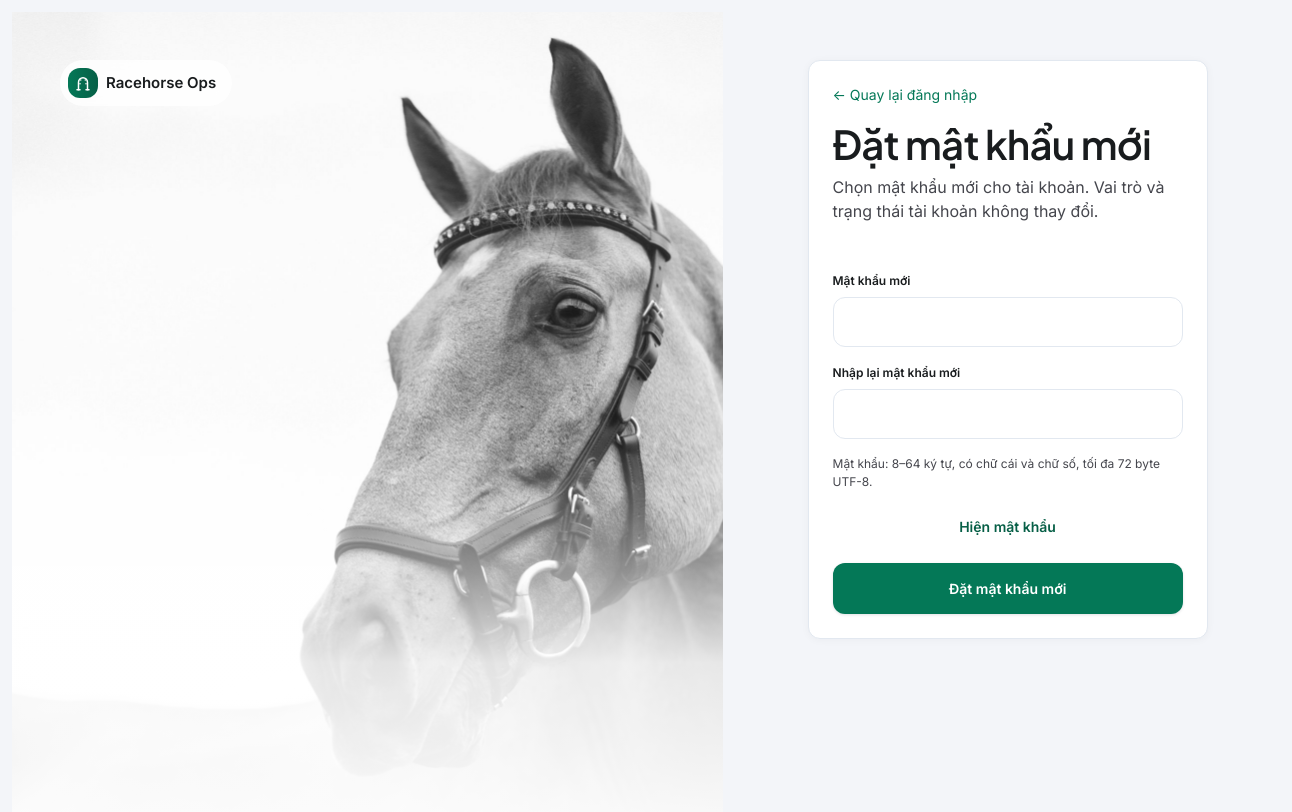
Test case: removes the token from the address bar, validates locally and posts the reset once
The width and height of the screenshot is (1292, 812).
Type "short" into the password field labelled "Mật khẩu mới". click: (1008,322)
box: [832,297,1182,347]
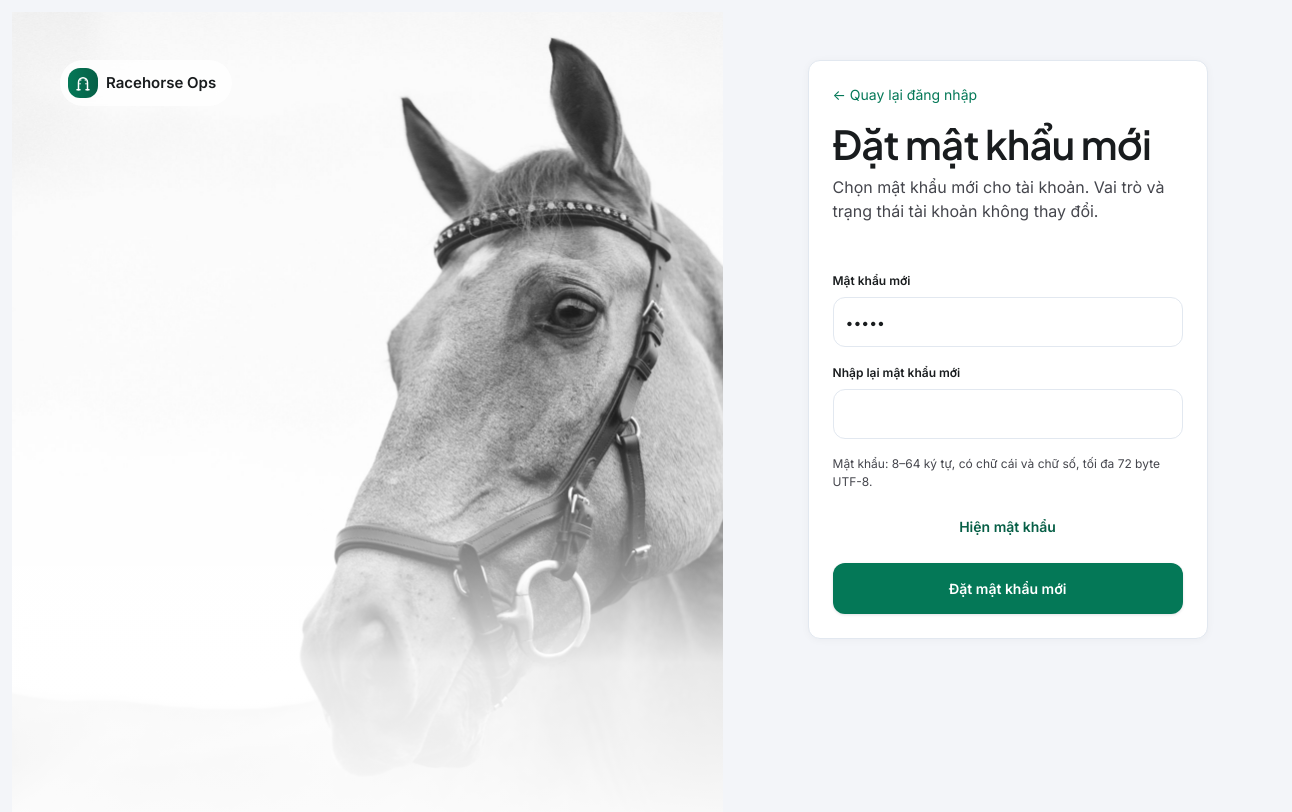
Click the button "Đặt mật khẩu mới". click: (1008,588)
box: [832,563,1182,614]
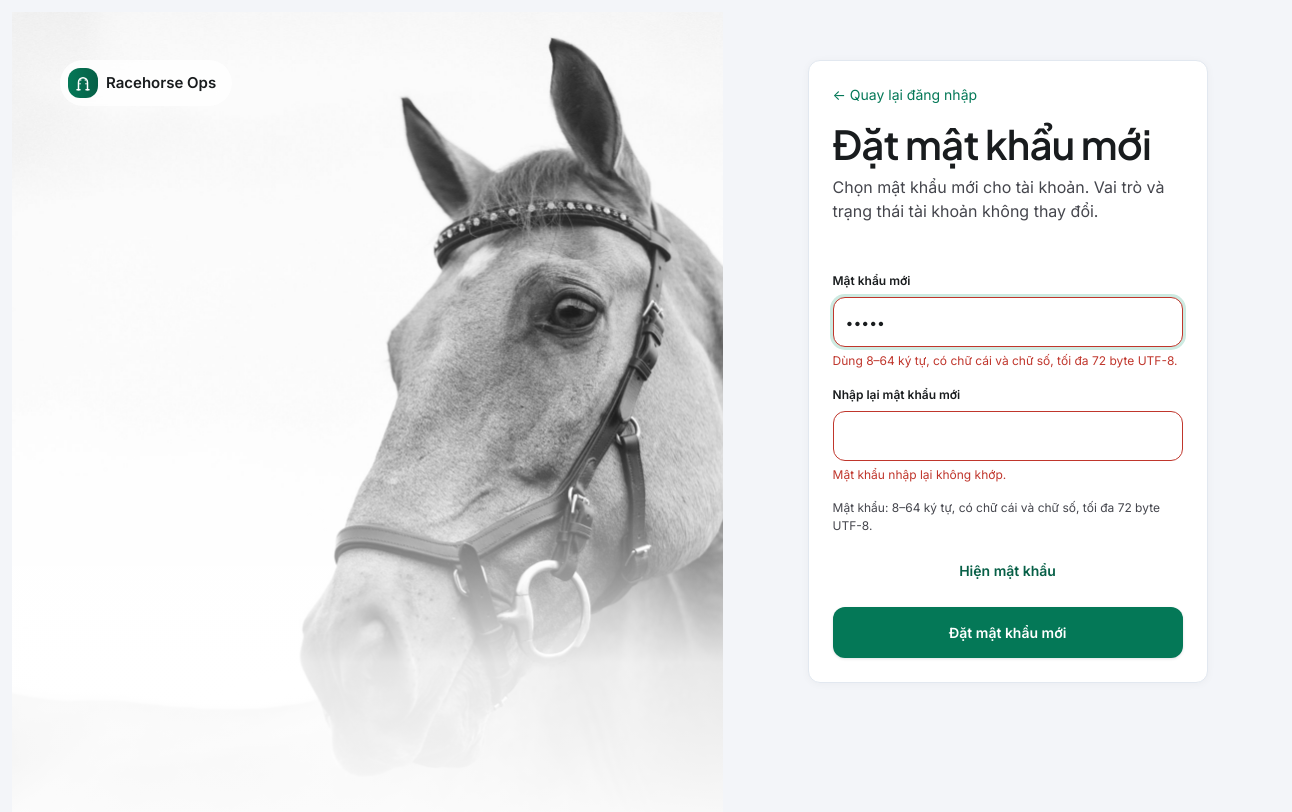
Result: the text "Dùng 8–64 ký tự, có chữ cái và chữ số, tối đa 72 byte UTF-8." is shown at [832,353,1182,369]
Type "Stable2026" into the password field labelled "Mật khẩu mới". click: (1008,322)
box: [832,297,1182,347]
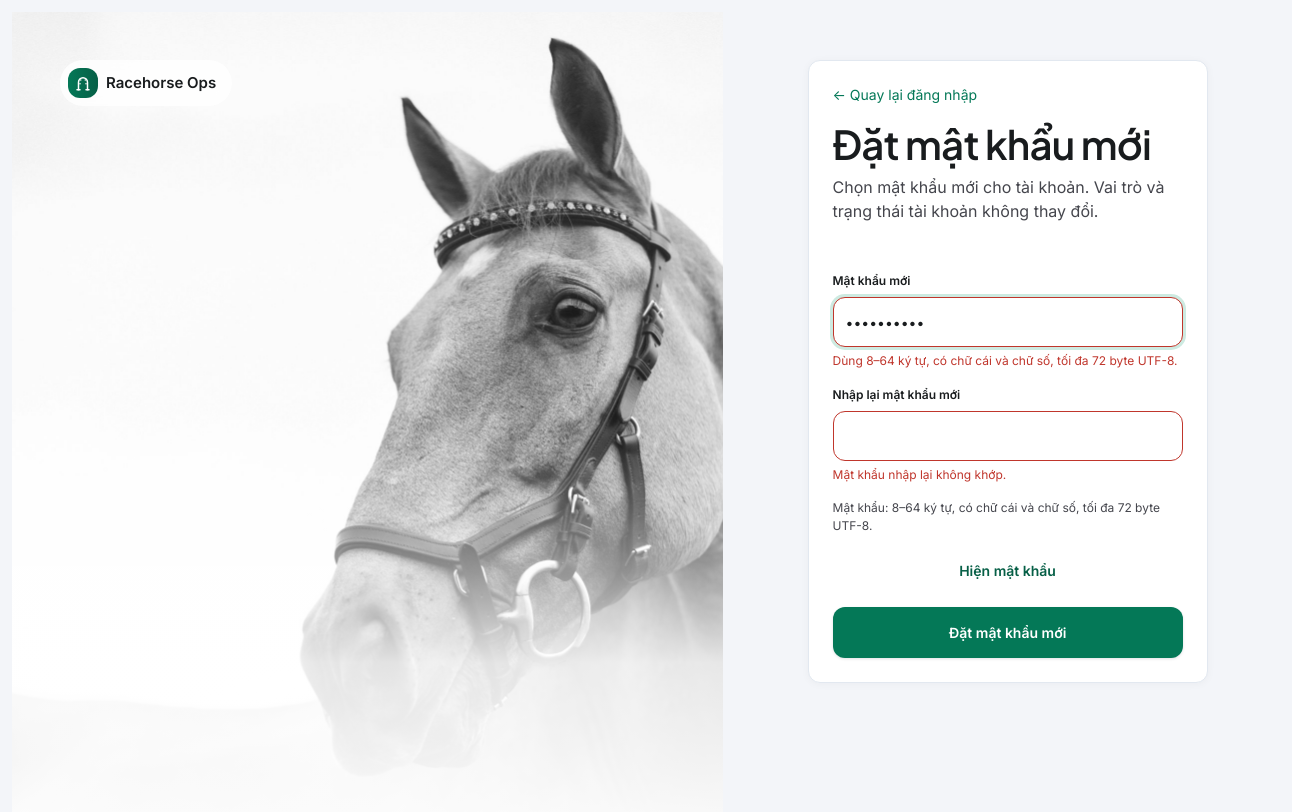
Type "Stable2026" into the password field labelled "Nhập lại mật khẩu mới". click: (1008,436)
box: [832,411,1182,461]
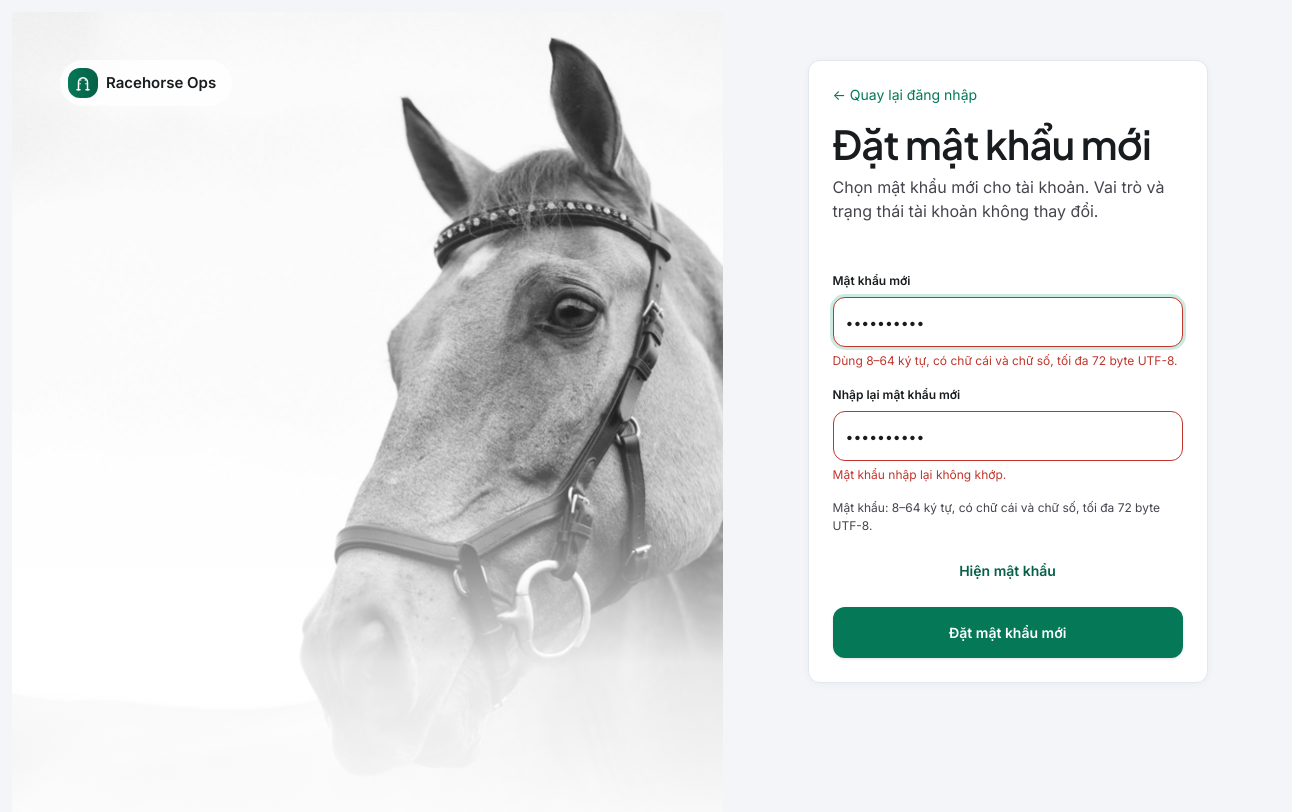
Click the button "Đặt mật khẩu mới". click: (1008,632)
box: [832,607,1182,658]
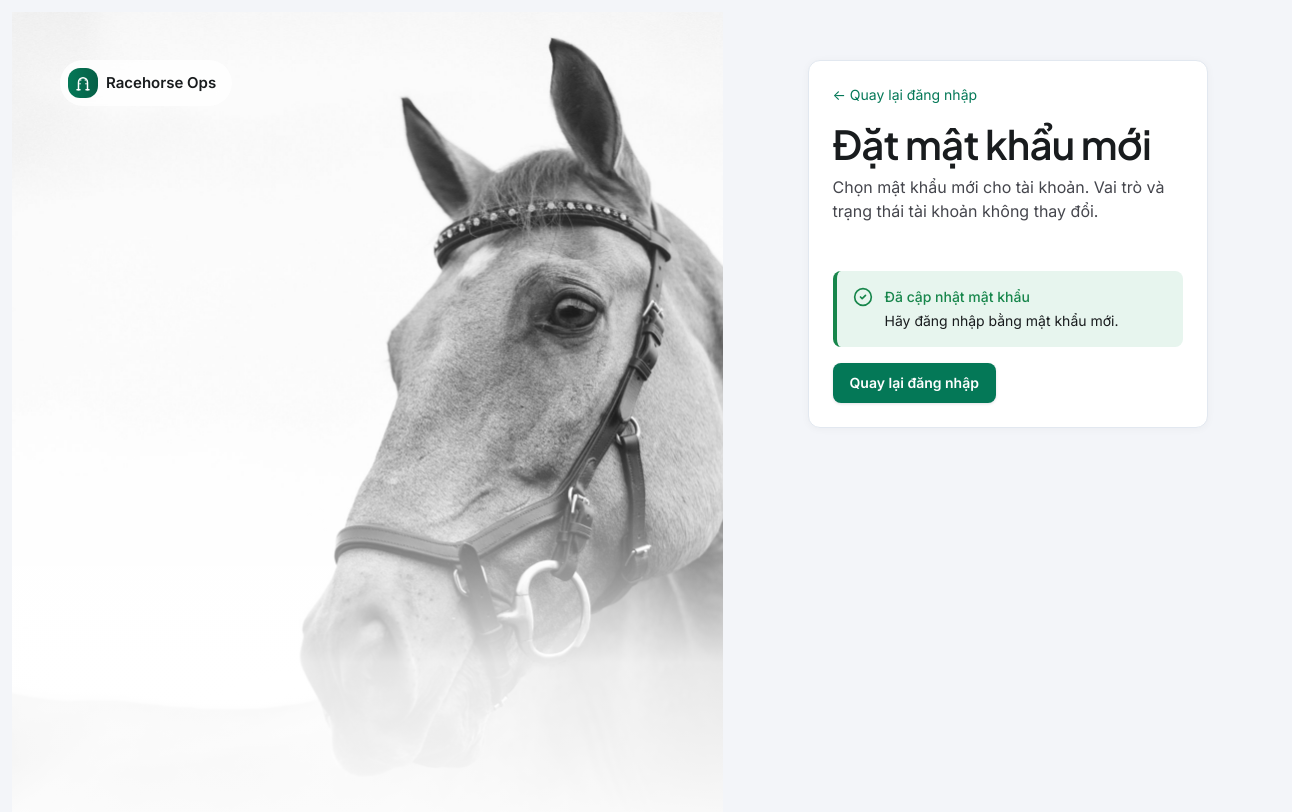
Result: the text "Đã cập nhật mật khẩu" is shown at [884,288,1030,305]
